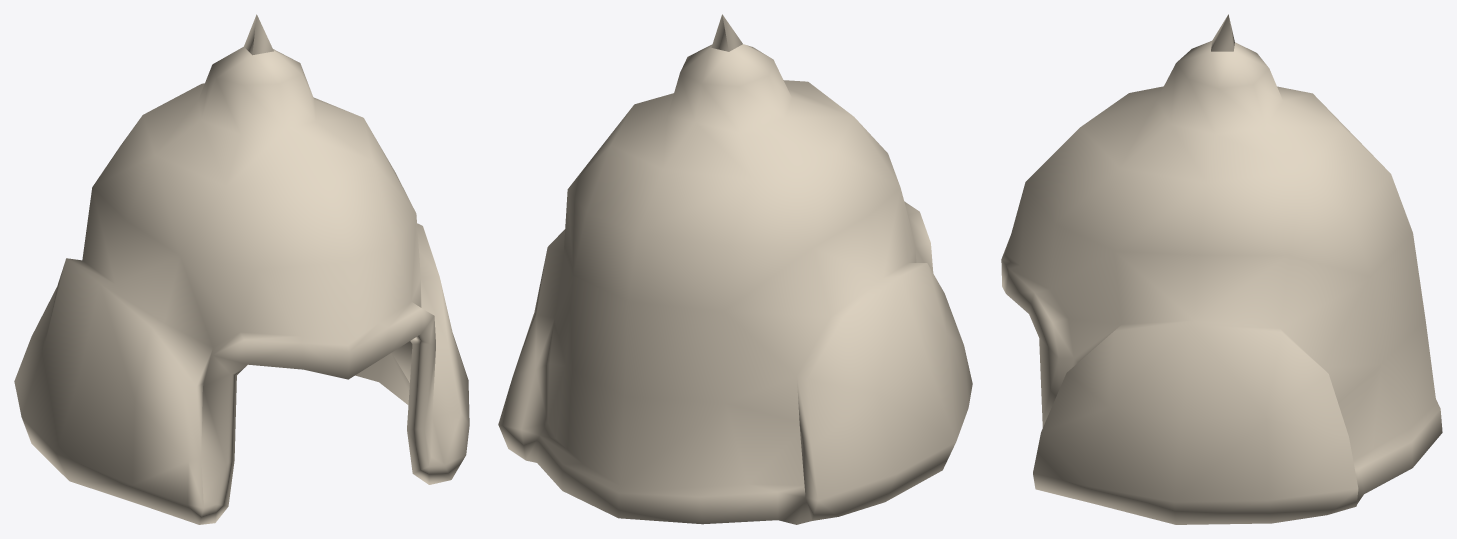
Rendered from helmet-mediuminfantry.glb.
3 renders of one model, left to right at view 1: azimuth 30°, elevation 25°; view 2: azimuth 150°, elevation 25°; view 3: azimuth 270°, elevation 25°, orthographic. The views are drawn at different scales.
Size of the model in its own units: 0.3092 by 0.3133 by 0.2916.
